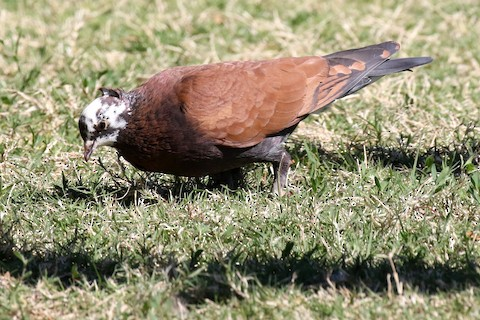pigeon: (77, 35, 435, 206)
